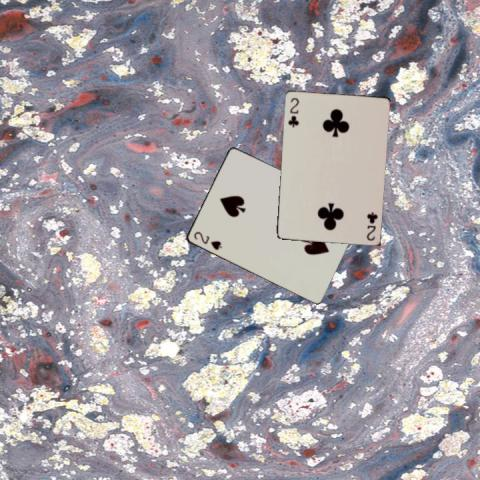2c: (363, 209, 379, 242), (285, 95, 300, 128)
2s: (191, 229, 223, 251)
